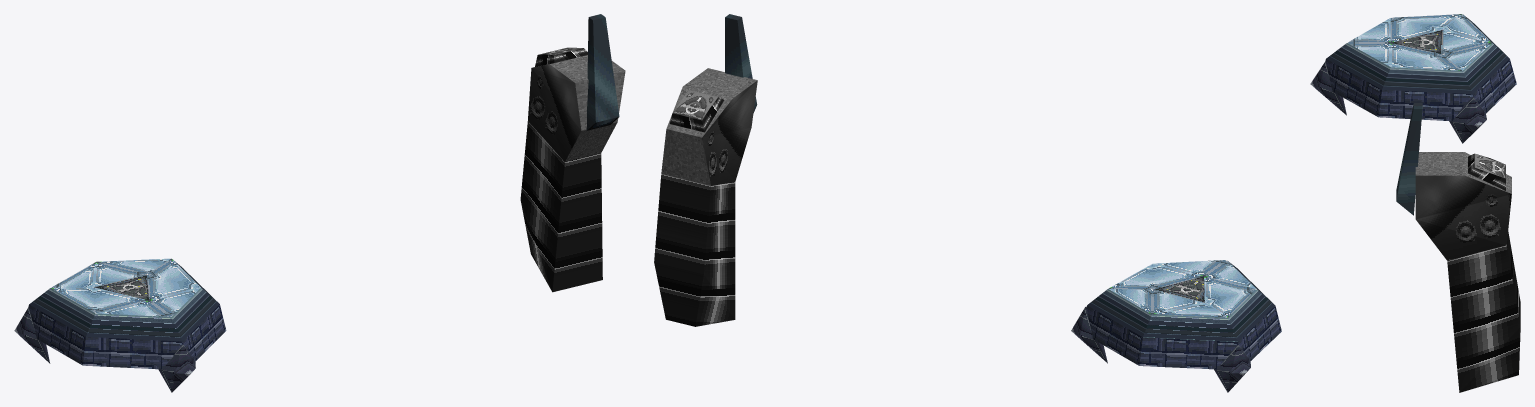
Rendered from Gun0022.obj.
3 renders of one model, left to right at view 1: azimuth 30°, elevation 25°; view 2: azimuth 150°, elevation 25°; view 3: azimuth 270°, elevation 25°, orthographic. The views are drawn at different scales.
Visible parts, largest first — view 1: Room28_primary, Room26_primary; view 2: Room28_primary, Room26_primary; view 3: Room28_primary, Room26_primary.
Part boxes in pixels (x1,y1,x2,y2): Room28_primary: (520, 14, 625, 292); Room26_primary: (14, 258, 226, 392); Room28_primary: (654, 14, 757, 326); Room26_primary: (1071, 260, 1281, 392); Room28_primary: (1396, 103, 1520, 392); Room26_primary: (1310, 14, 1516, 143).
Size of the model in its own units: 366 by 173 by 120.
Materials: 14 (14 with a texture image).
